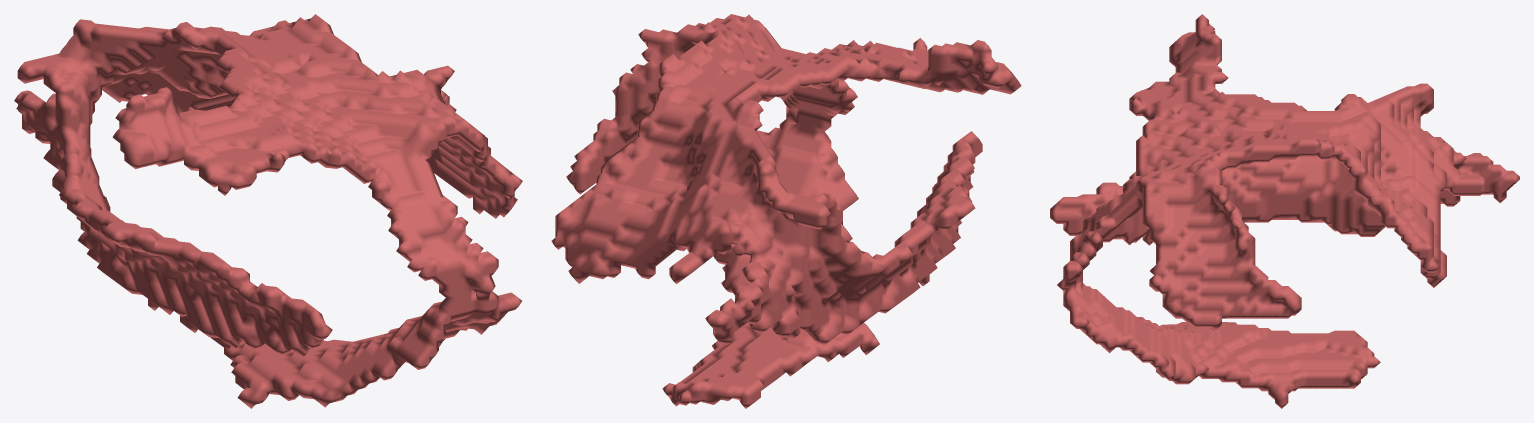
The model's file is Sinu_Contact.obj.
The picture shows the model from 3 angles, left to right: view 1: azimuth 30°, elevation 25°; view 2: azimuth 150°, elevation 25°; view 3: azimuth 270°, elevation 25°; orthographic projection. The views are drawn at different scales.
Visible parts, largest first — view 1: skin; view 2: skin; view 3: skin.
Part boxes in pixels (x1=…): skin: x1=14, y1=14, x2=522, y2=408; skin: x1=551, y1=14, x2=1021, y2=408; skin: x1=1050, y1=14, x2=1519, y2=408.
Size of the model in its own units: 55.99 by 49.99 by 70.99.
